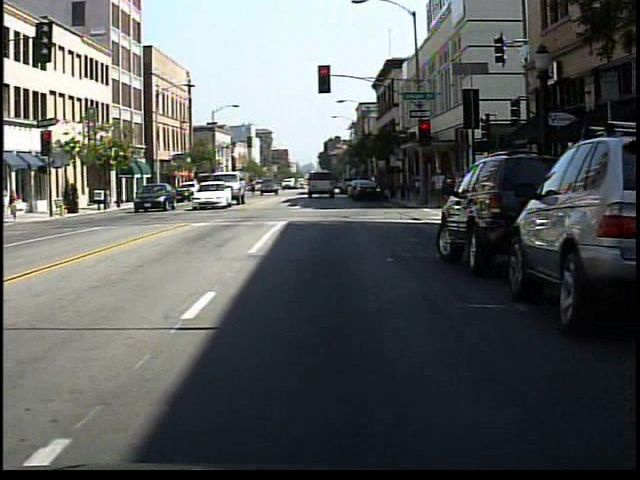person: (3, 185, 25, 226), (429, 166, 449, 208), (443, 168, 458, 207), (0, 183, 13, 226), (244, 173, 261, 202)
